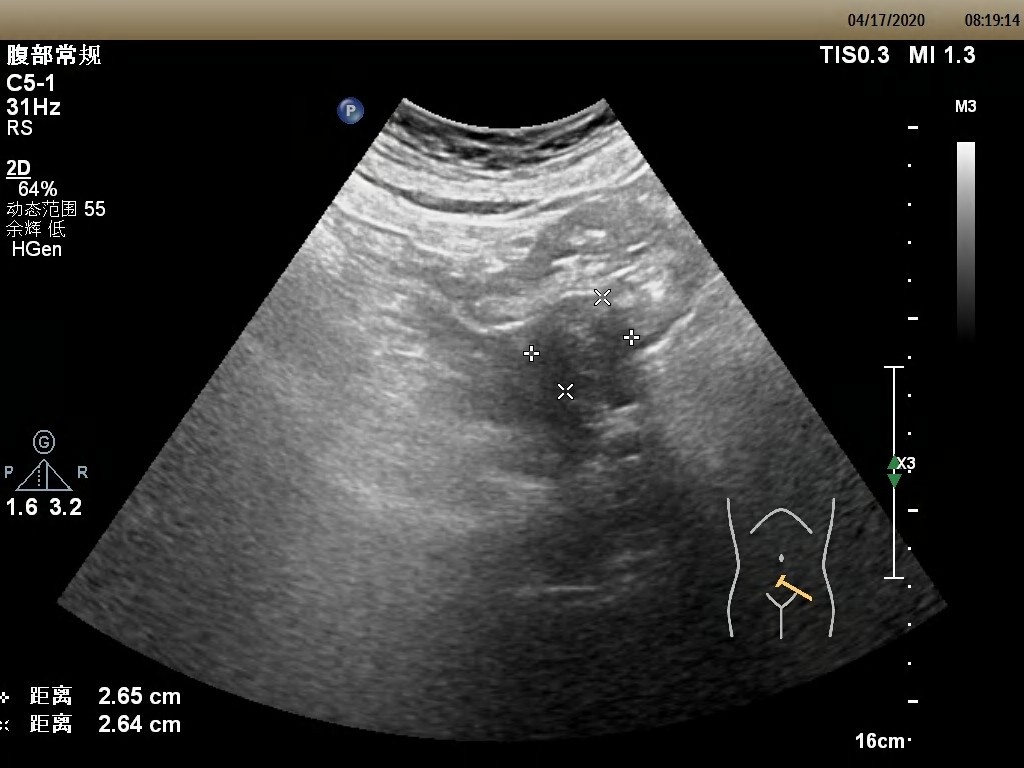肌瘤: (535, 298, 631, 393)
